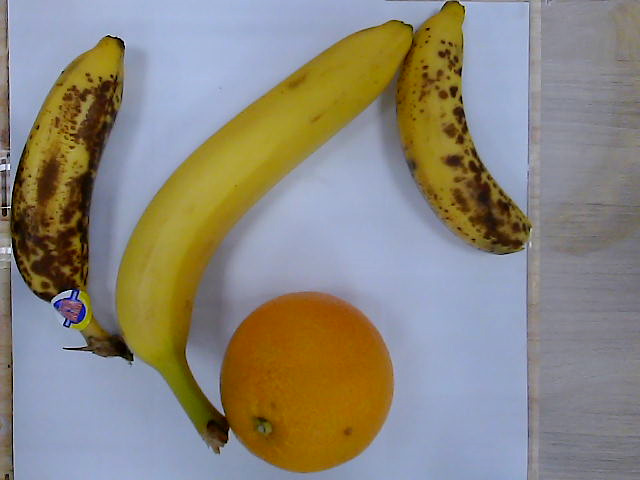fresh_banana: (114, 22, 410, 360)
fresh_orange: (218, 291, 392, 473)
rotten_banana: (12, 34, 131, 363), (395, 1, 533, 255)
